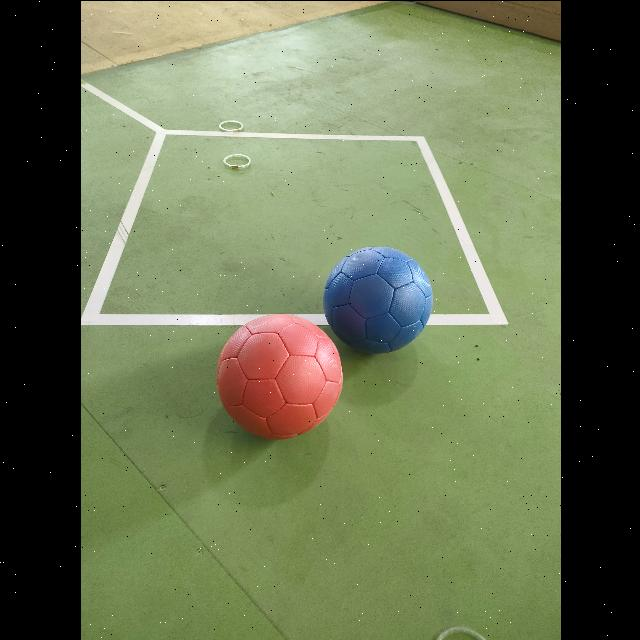B: (322, 245, 432, 352)
R: (216, 314, 342, 438)
